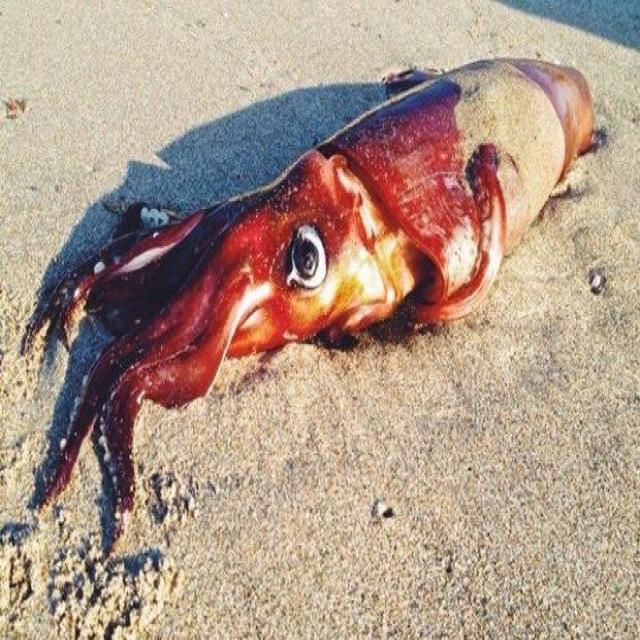SQUID: (33, 42, 640, 506)
